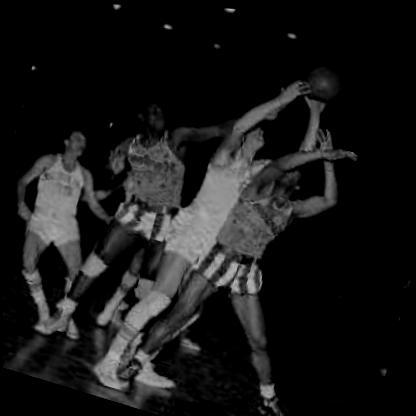basketball: (301, 57, 348, 105)
